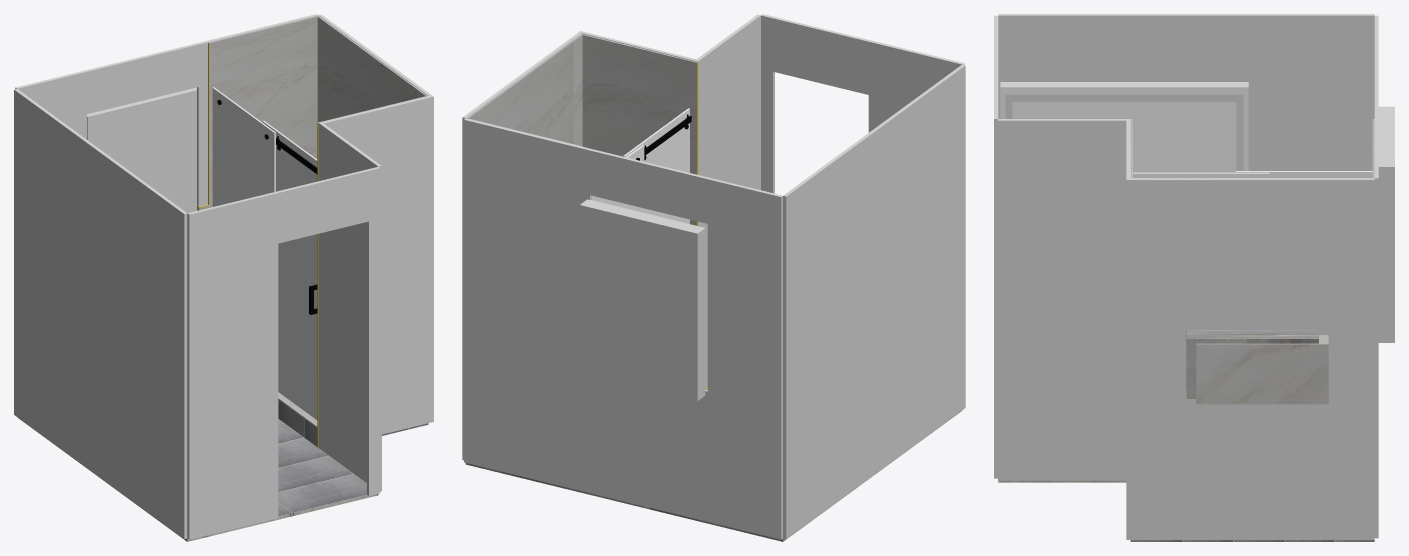
The picture shows the model from 3 angles, left to right: view 1: azimuth 30°, elevation 25°; view 2: azimuth 150°, elevation 25°; view 3: azimuth 270°, elevation 25°; orthographic projection. The views are drawn at different scales.
Visible parts, largest first — view 1: Vanity Wall, Door Wall, Shower Head Wall, Towel Wall, Window Wall, Window, Shower Door Sliding, Shower Door Fixed, Wall Tile.022, Room Floor, Wall Tile.030, Wall Tile.027 (+4 smaller); view 2: Window Wall, Vanity Wall, Window, Door Wall, Towel Wall, Wall Tile.026, Wall Tile.032, Wall Tile.027, Shower Door Sliding, Wall Tile.009, Shower Wall, Room Floor (+1 smaller); view 3: Shower Wall, Towel Wall, Vanity Wall, Mirror Front, Soap Box, Window, Window Wall, Mirror Light, Shower Head Wall, Door Wall, Mirror Box, Soap Box Back Tile (+4 smaller).
Boxes of the visible parts, bbox=[...] form: Vanity Wall: bbox=[14, 89, 187, 539]; Door Wall: bbox=[187, 166, 380, 539]; Shower Head Wall: bbox=[318, 95, 433, 434]; Towel Wall: bbox=[318, 122, 381, 491]; Window Wall: bbox=[15, 14, 318, 210]; Window: bbox=[87, 87, 196, 213]; Shower Door Sliding: bbox=[262, 120, 317, 419]; Shower Door Fixed: bbox=[212, 87, 275, 206]; Wall Tile.022: bbox=[209, 57, 317, 164]; Room Floor: bbox=[17, 417, 378, 541]; Wall Tile.030: bbox=[209, 16, 318, 83]; Wall Tile.027: bbox=[328, 24, 418, 106]; Window Wall: bbox=[464, 118, 782, 539]; Vanity Wall: bbox=[783, 64, 965, 538]; Window: bbox=[579, 199, 705, 401]; Door Wall: bbox=[761, 14, 964, 193]; Towel Wall: bbox=[695, 14, 760, 388]; Wall Tile.026: bbox=[582, 78, 696, 174]; Wall Tile.032: bbox=[582, 34, 697, 105]; Wall Tile.027: bbox=[478, 41, 573, 128]; Shower Door Sliding: bbox=[623, 108, 689, 223]; Wall Tile.009: bbox=[512, 84, 573, 143]; Shower Wall: bbox=[462, 32, 581, 460]; Room Floor: bbox=[581, 411, 961, 541]; Shower Wall: bbox=[1130, 178, 1374, 539]; Towel Wall: bbox=[998, 119, 1130, 480]; Vanity Wall: bbox=[998, 14, 1374, 170]; Mirror Front: bbox=[1000, 87, 1248, 172]; Soap Box: bbox=[1196, 335, 1328, 404]; Window: bbox=[1378, 106, 1394, 342]; Window Wall: bbox=[1374, 15, 1378, 538]; Mirror Light: bbox=[1005, 94, 1243, 170]; Shower Head Wall: bbox=[1126, 120, 1130, 539]; Door Wall: bbox=[994, 15, 998, 478]; Mirror Box: bbox=[1000, 82, 1248, 87]; Soap Box Back Tile: bbox=[1186, 338, 1318, 398].
Size of the model in its own units: 2.55 by 2.46 by 2.46.
Materials: 10 (4 with a texture image).
